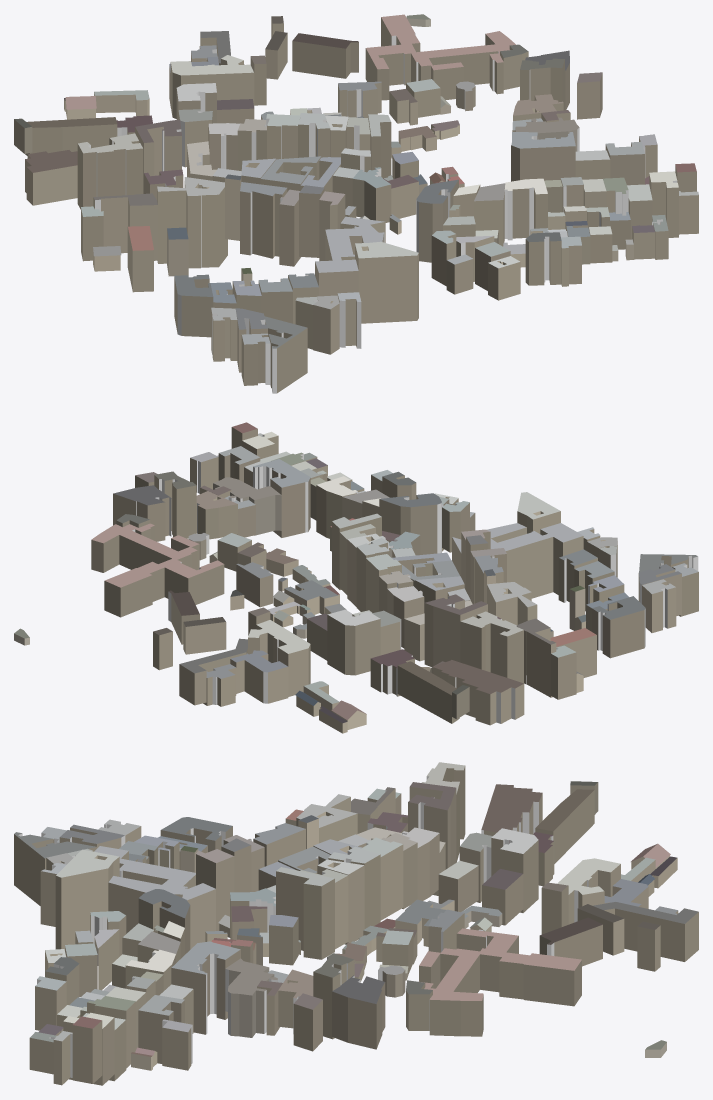
3 renders of one model, top to bottom at view 1: azimuth 30°, elevation 25°; view 2: azimuth 150°, elevation 25°; view 3: azimuth 270°, elevation 25°, orthographic. The views are drawn at different scales.
Visible parts, largest first — view 1: tuile; view 2: tuile; view 3: tuile.
Boxes of the visible parts, box(x1,y1,x2,y2) form: tuile: box(14, 14, 698, 393); tuile: box(14, 422, 698, 733); tuile: box(14, 762, 698, 1085).
Size of the model in its own units: 261 by 64.67 by 277.
